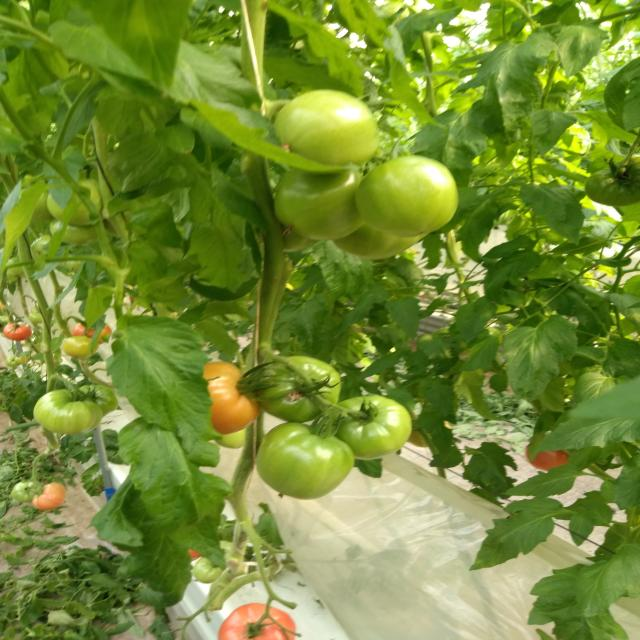n-half-riped: (204, 361, 261, 434), (72, 320, 111, 344), (32, 483, 66, 510)
n-riped: (218, 602, 297, 640), (525, 436, 569, 471), (4, 323, 32, 341)
n-unriped: (355, 154, 460, 237), (275, 89, 380, 170), (255, 422, 356, 500), (275, 164, 367, 240), (324, 395, 412, 460), (257, 355, 341, 423), (334, 223, 426, 259), (33, 388, 103, 434), (584, 155, 640, 207), (74, 384, 119, 418), (62, 335, 99, 359), (192, 557, 222, 583), (214, 428, 247, 449), (11, 480, 42, 502)
